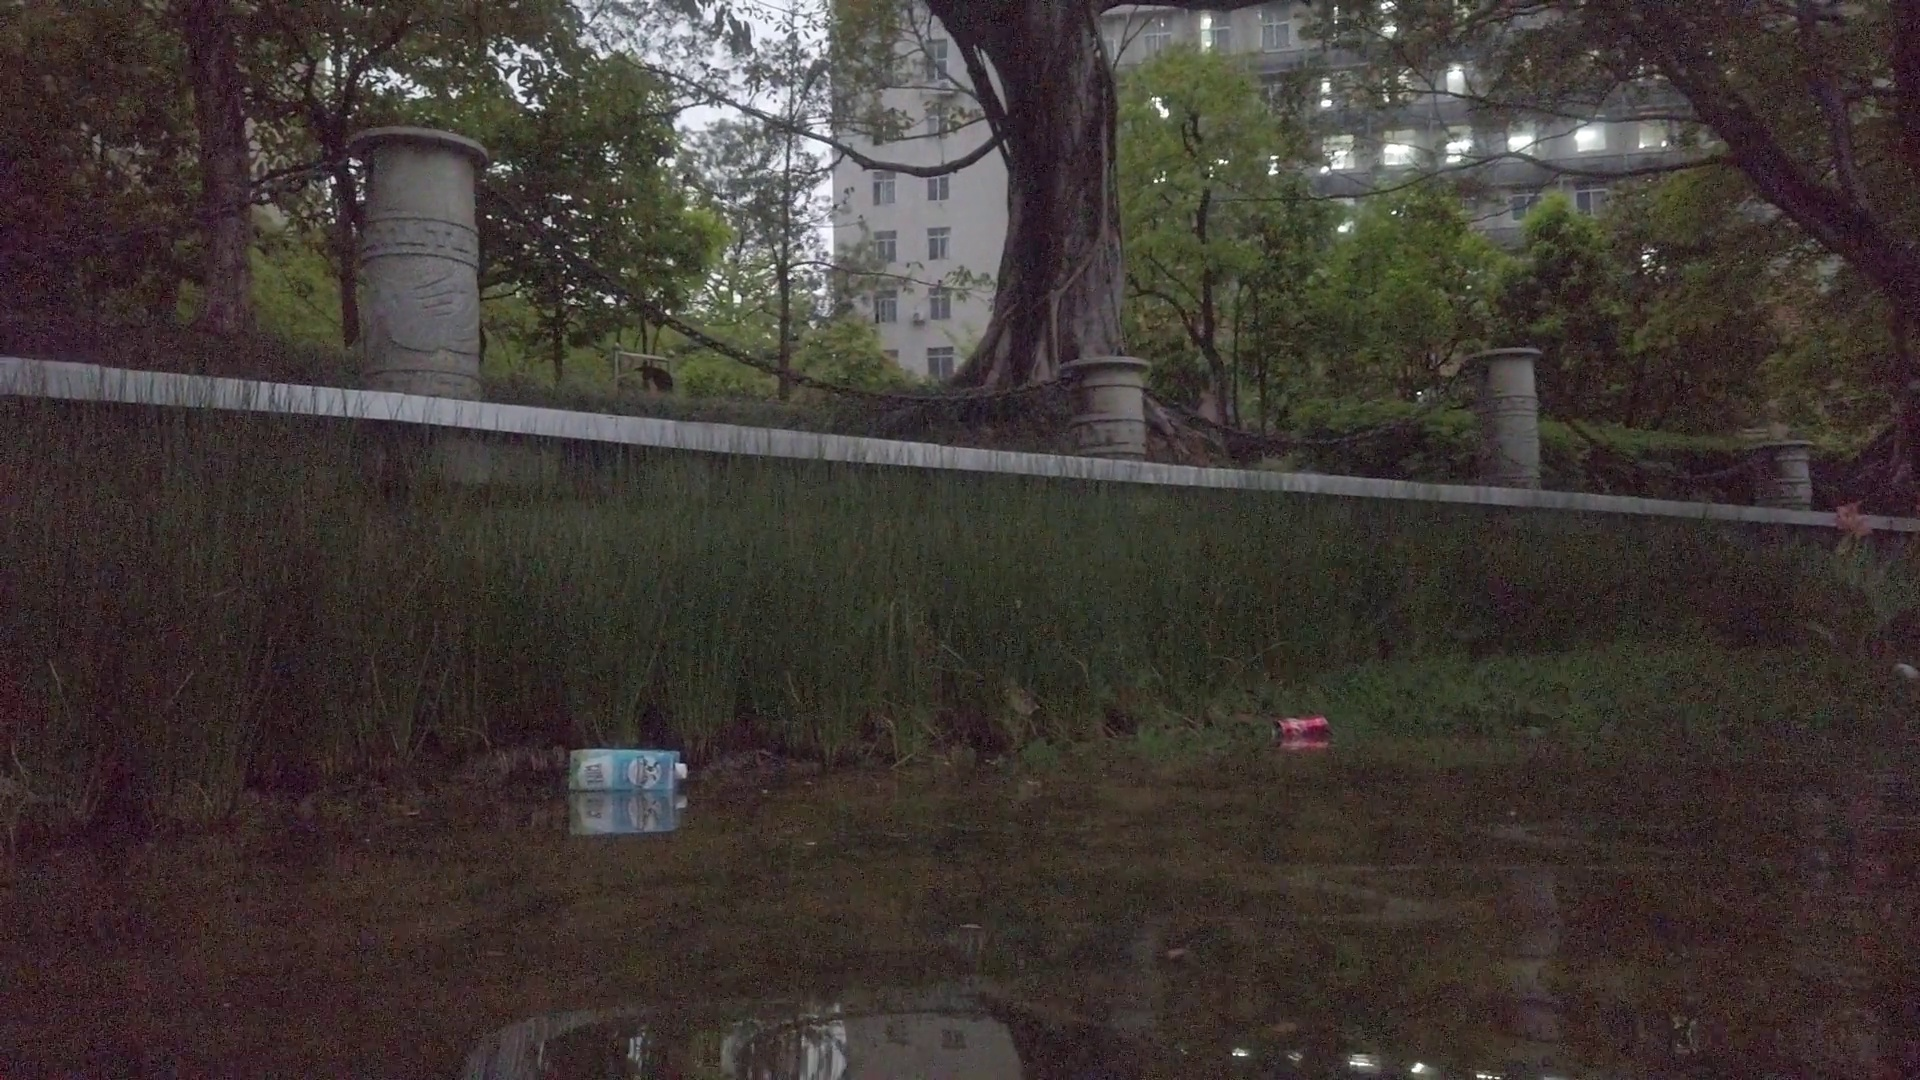bottle: (1271, 715, 1331, 746)
carton: (568, 742, 688, 796)
